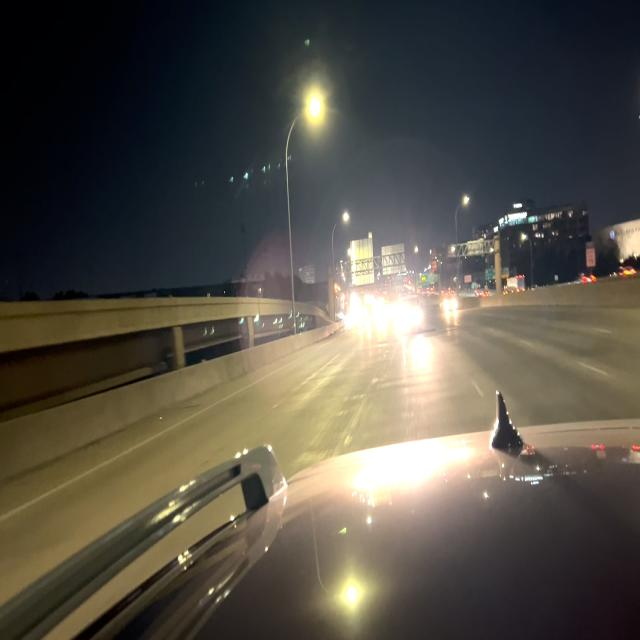back-of-sign: (350, 231, 376, 284), (381, 241, 407, 277)
